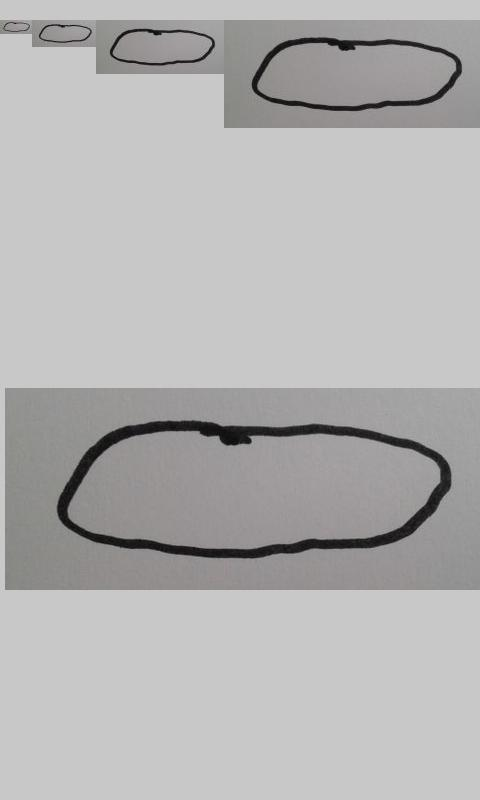chip: (56, 420, 452, 560), (251, 36, 464, 113), (109, 29, 215, 66), (38, 23, 92, 43), (3, 22, 31, 32)
